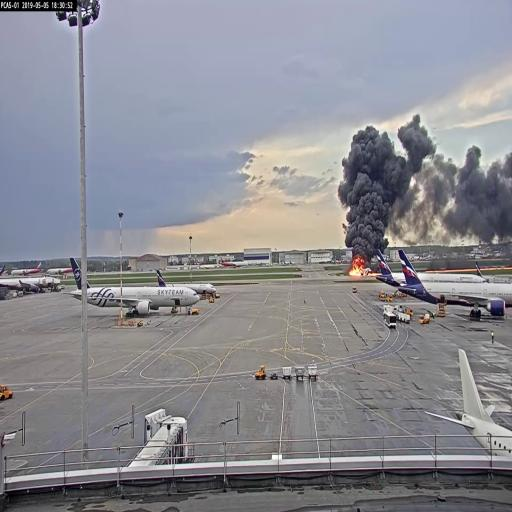fire: (351, 257, 364, 272)
smoke: (337, 122, 393, 252), (400, 110, 431, 171)
